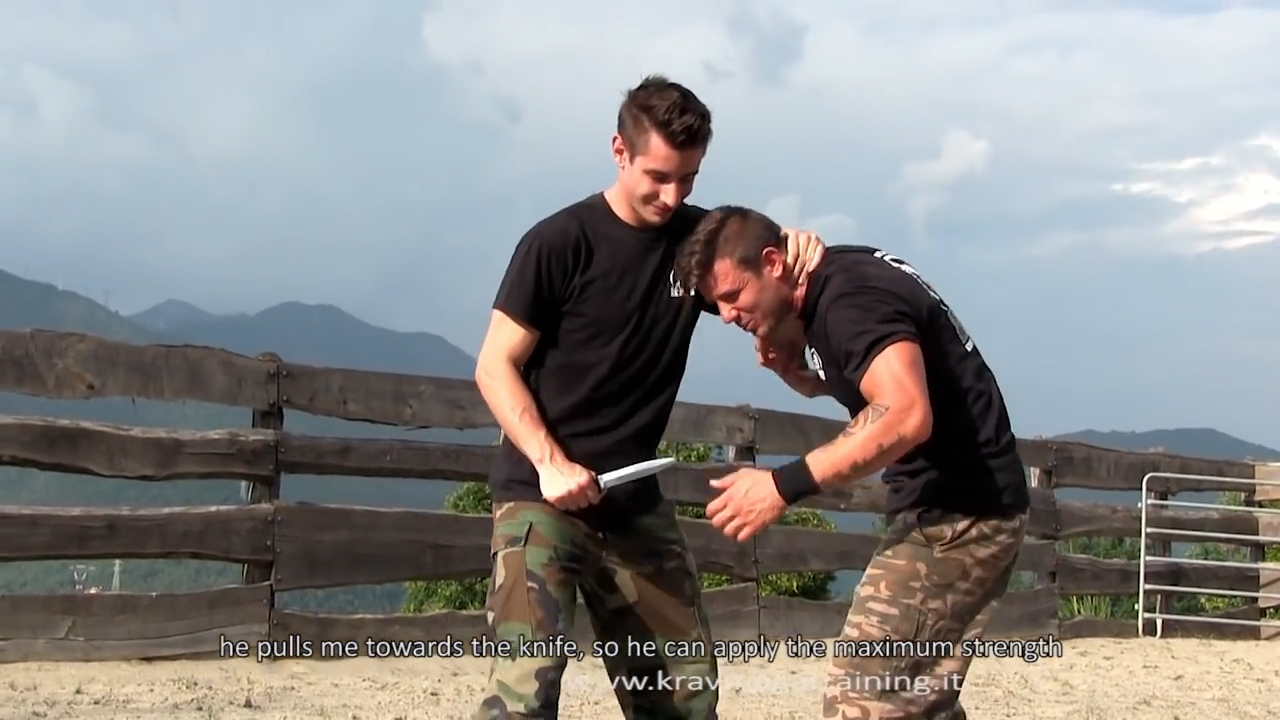knife: (538, 446, 687, 515)
